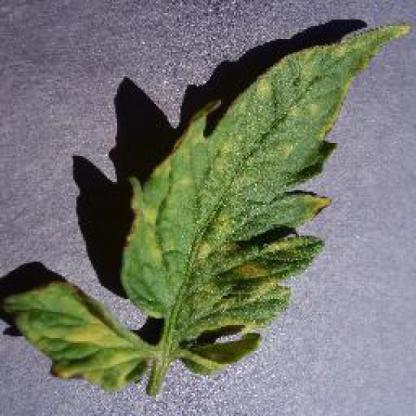Tomato_Leaf_Mold: (18, 22, 412, 382)
